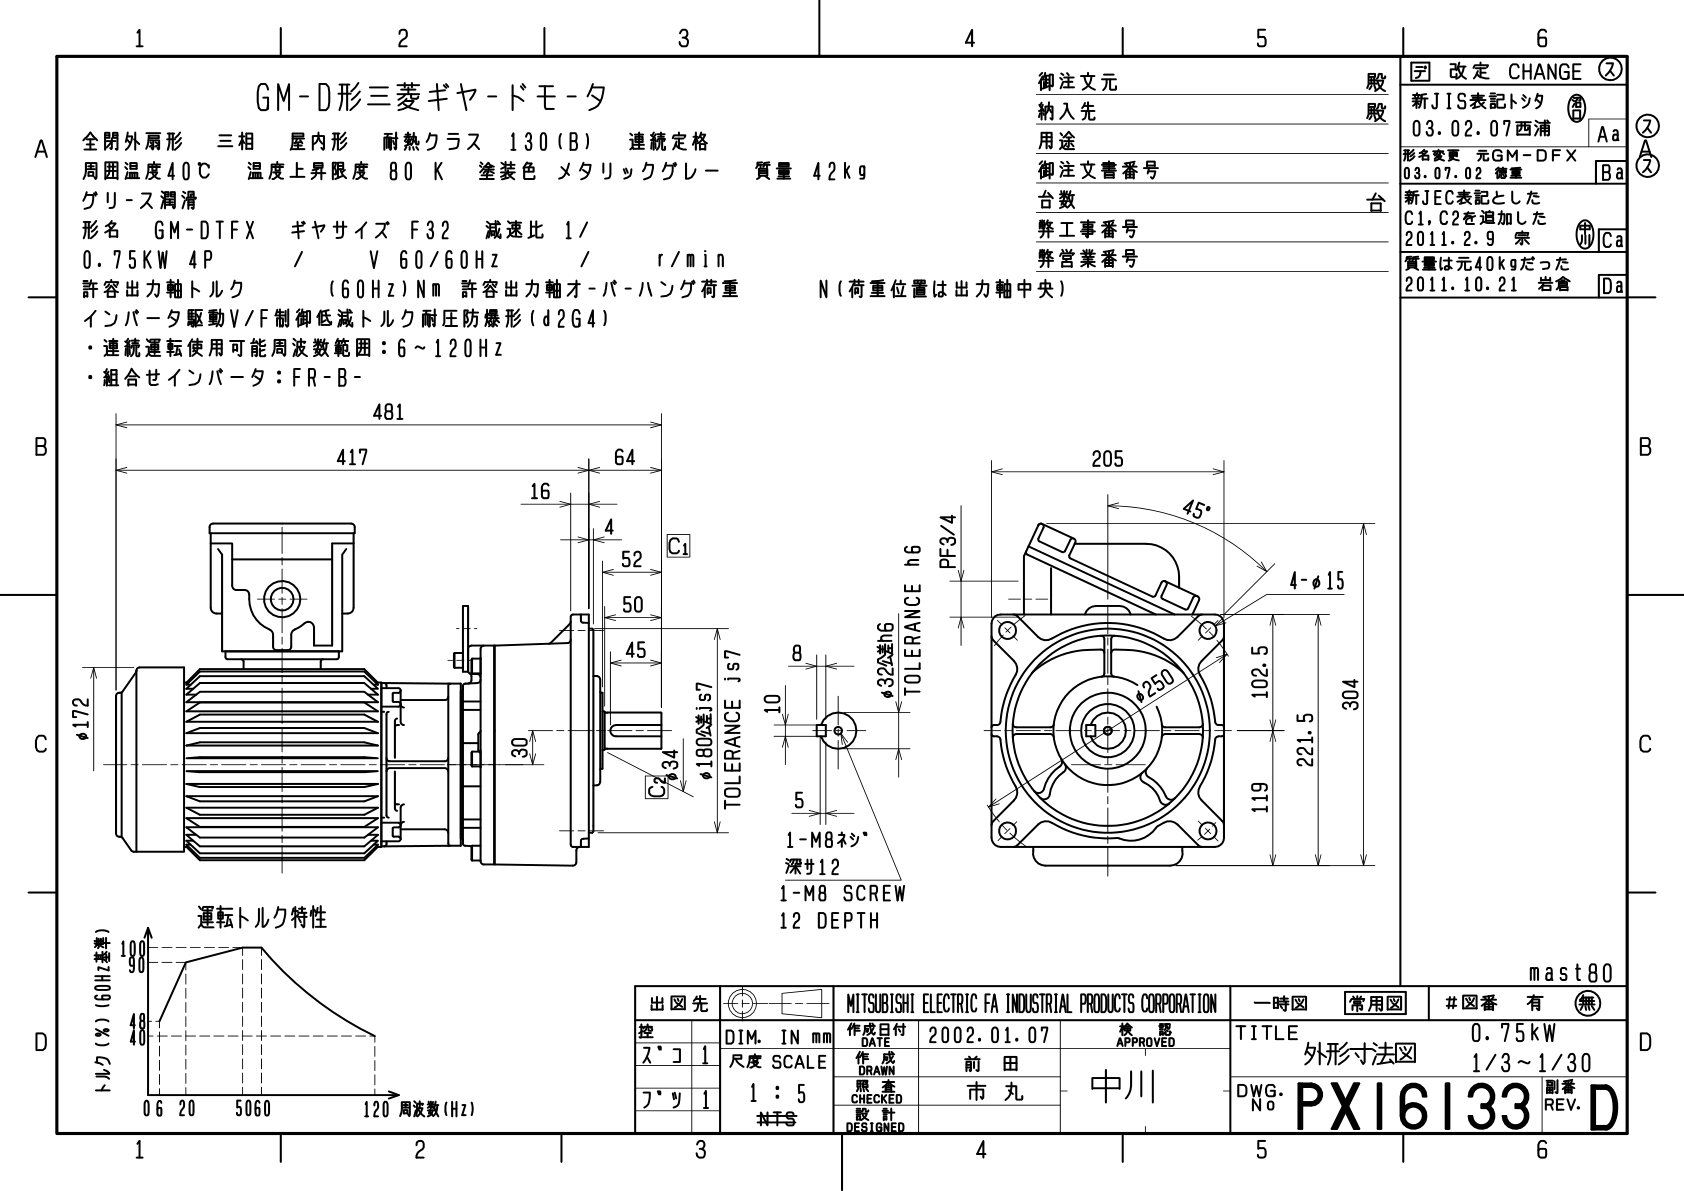GM_D_VF制御屋内_三相_フランジ: (67, 400, 1395, 963)
